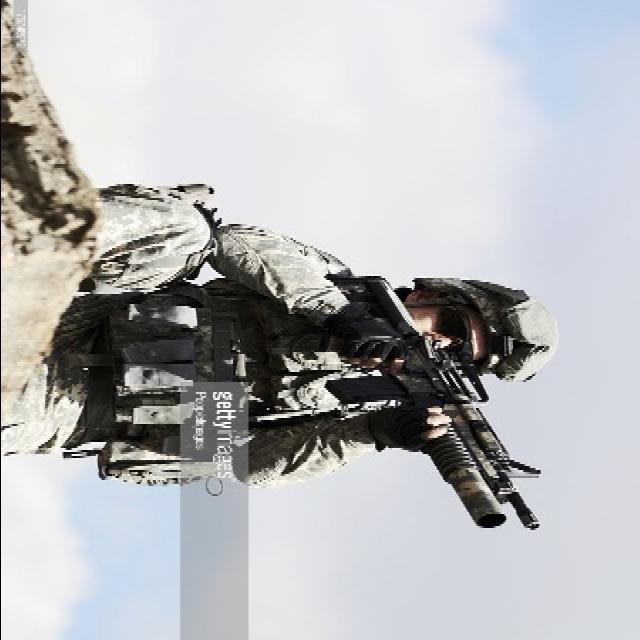rifle: (283, 267, 552, 547)
